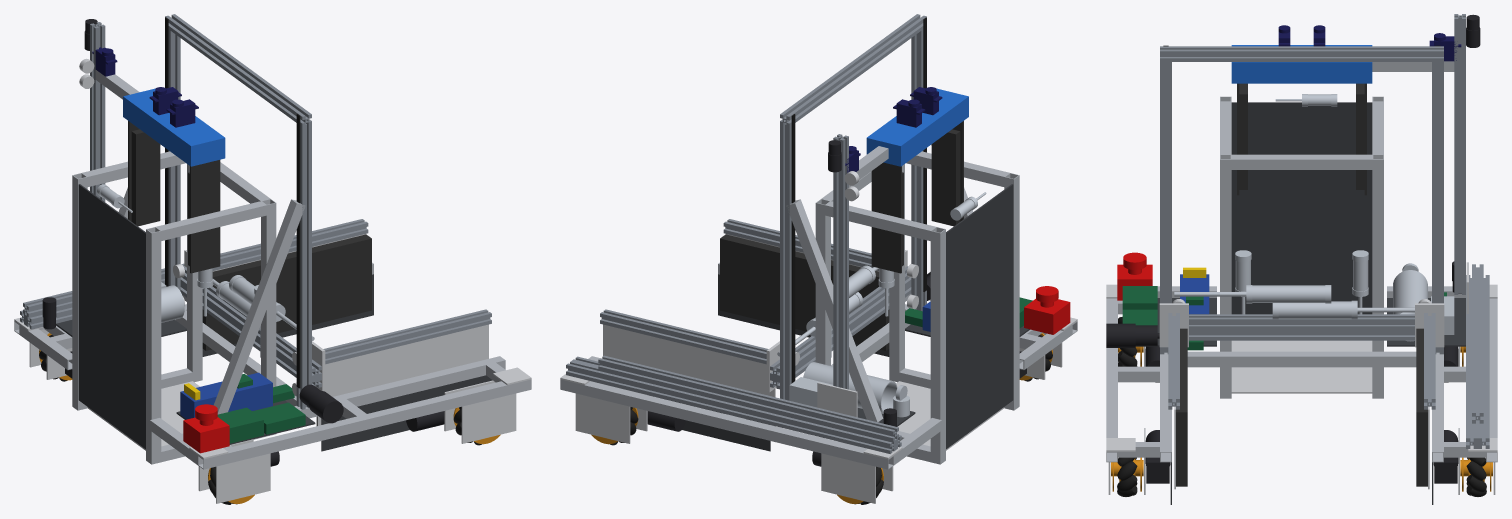
The model's file is TR-A_awal.glb.
3 views of the same model, side by side, from view 1: azimuth 30°, elevation 25°; view 2: azimuth 150°, elevation 25°; view 3: azimuth 270°, elevation 25° (orthographic). The views are drawn at different scales.
Visible parts, largest first — view 1: pintu_rak_belakang, busa_rahang_kiri, jari_penjepit_sky, rahang_kanan, rel_luar_kanan, penguat_tiang_2, kepala_penjepit_sky, tiang_rak_2, tiang_carriage_2, palang_atas_carriage, lengan_rahang_kanan, rel_dalam_kanan (+31 smaller); view 2: pintu_rak_belakang, busa_rahang_kanan, jari_penjepit_sky, rahang_kiri, rel_luar_kiri, rel_sky_t1, rel_sky_t0, batang_tegak_sky, tiang_rak, kepala_penjepit_sky, tiang_carriage, penguat_tiang (+26 smaller); view 3: pintu_rak_belakang, balok_carriage, alas_rak, palang_atas_carriage, palang_tiang, kepala_penjepit_sky, batang_tegak_sky, tiang_carriage, tiang_carriage_2, rel_sky_t0, tiang_rak_3, tiang_rak_4 (+39 smaller).
Part boxes in pixels (bbox=[...]): pintu_rak_belakang: bbox=[78, 184, 145, 449]; busa_rahang_kiri: bbox=[202, 234, 371, 350]; jari_penjepit_sky: bbox=[128, 121, 220, 273]; rahang_kanan: bbox=[317, 324, 488, 425]; rel_luar_kanan: bbox=[198, 379, 531, 469]; penguat_tiang_2: bbox=[213, 199, 305, 414]; kepala_penjepit_sky: bbox=[123, 88, 225, 166]; tiang_rak_2: bbox=[146, 227, 161, 464]; tiang_carriage_2: bbox=[296, 123, 311, 409]; palang_atas_carriage: bbox=[165, 14, 311, 126]; lengan_rahang_kanan: bbox=[323, 309, 491, 364]; rel_dalam_kanan: bbox=[182, 356, 505, 434]; pintu_rak_belakang: bbox=[946, 184, 1013, 449]; busa_rahang_kanan: bbox=[720, 234, 889, 350]; jari_penjepit_sky: bbox=[871, 121, 963, 273]; rahang_kiri: bbox=[603, 324, 774, 425]; rel_luar_kiri: bbox=[560, 379, 893, 469]; rel_sky_t1: bbox=[598, 355, 898, 441]; rel_sky_t0: bbox=[566, 356, 901, 453]; batang_tegak_sky: bbox=[833, 134, 848, 389]; tiang_rak: bbox=[930, 227, 945, 464]; kepala_penjepit_sky: bbox=[866, 88, 968, 166]; tiang_carriage: bbox=[780, 123, 791, 400]; penguat_tiang: bbox=[786, 199, 883, 422]; pintu_rak_belakang: bbox=[1231, 102, 1372, 314]; balok_carriage: bbox=[1189, 314, 1414, 340]; alas_rak: bbox=[1231, 340, 1372, 393]; palang_atas_carriage: bbox=[1160, 46, 1443, 61]; palang_tiang: bbox=[1187, 351, 1416, 367]; kepala_penjepit_sky: bbox=[1231, 45, 1372, 83]; batang_tegak_sky: bbox=[1454, 14, 1465, 294]; tiang_carriage: bbox=[1432, 62, 1443, 354]; tiang_carriage_2: bbox=[1160, 62, 1171, 354]; rel_sky_t0: bbox=[1466, 275, 1489, 448]; tiang_rak_3: bbox=[1372, 154, 1383, 398]; tiang_rak_4: bbox=[1220, 154, 1231, 398].
Size of the model in its own units: 668 by 690 by 668.
